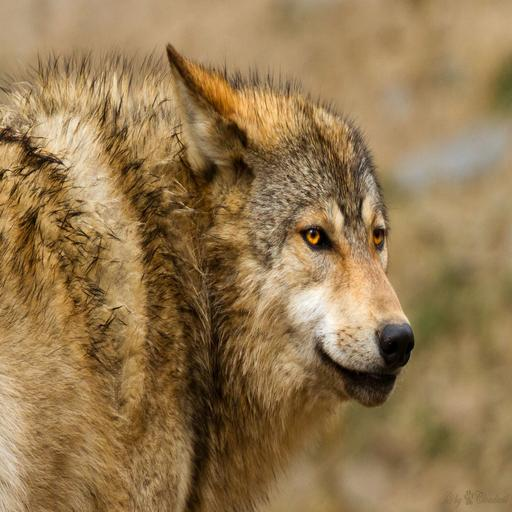Wolf: (0, 43, 420, 508)
